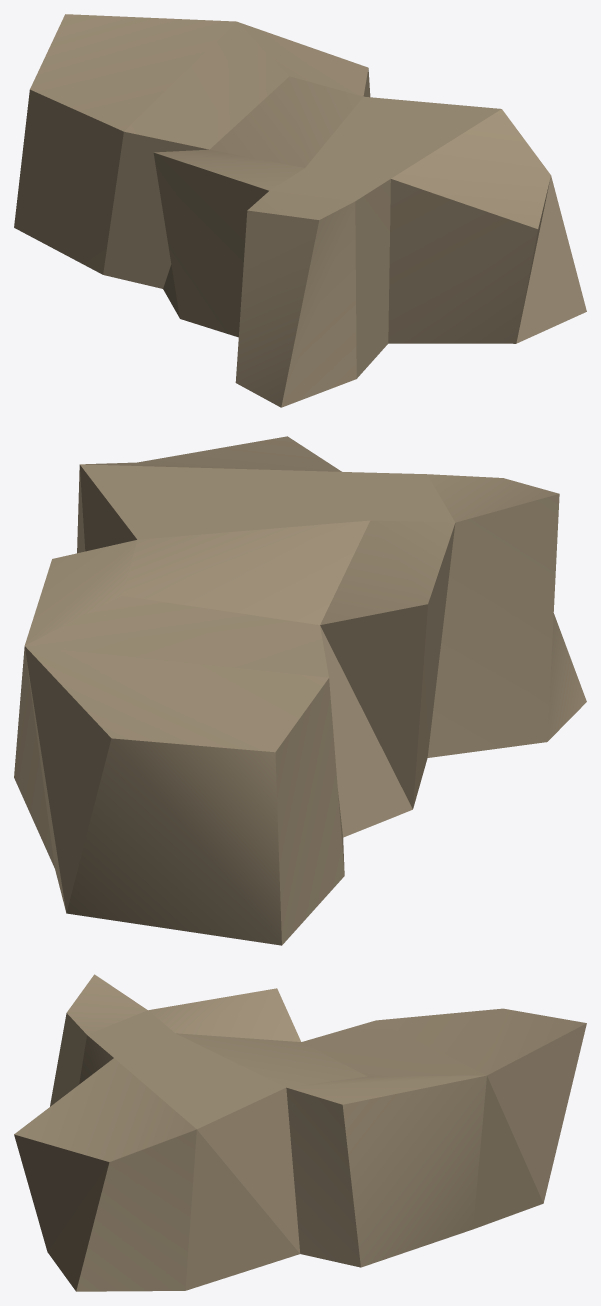
File: rock_tall_lrg_p_01.fbx
The picture shows the model from 3 angles, top to bottom: view 1: azimuth 30°, elevation 25°; view 2: azimuth 150°, elevation 25°; view 3: azimuth 270°, elevation 25°; orthographic projection. The views are drawn at different scales.
Parts seen in each view (by area): view 1: rock_tall_lrg_p_01; view 2: rock_tall_lrg_p_01; view 3: rock_tall_lrg_p_01.
Part boxes in pixels (box(x1,y1,x2,y2)): rock_tall_lrg_p_01: box(14, 14, 586, 407); rock_tall_lrg_p_01: box(14, 436, 586, 945); rock_tall_lrg_p_01: box(14, 974, 586, 1291).
Bounding box in the file's own units: 67.55 × 34.26 × 104.
